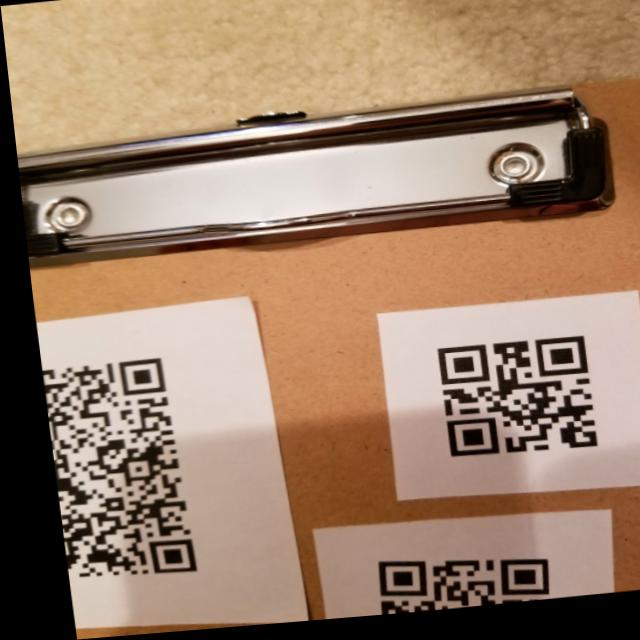QR_CODE: (32, 332, 198, 592), (412, 323, 598, 479), (343, 536, 555, 621)
